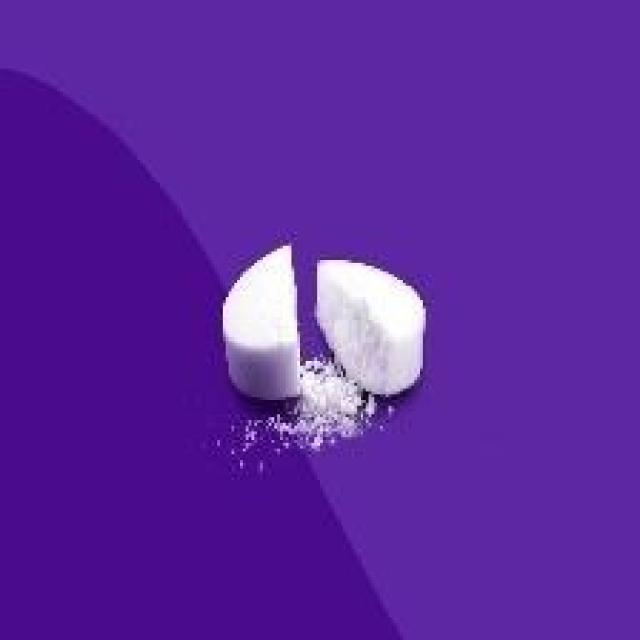Medicine: (196, 196, 480, 452)
